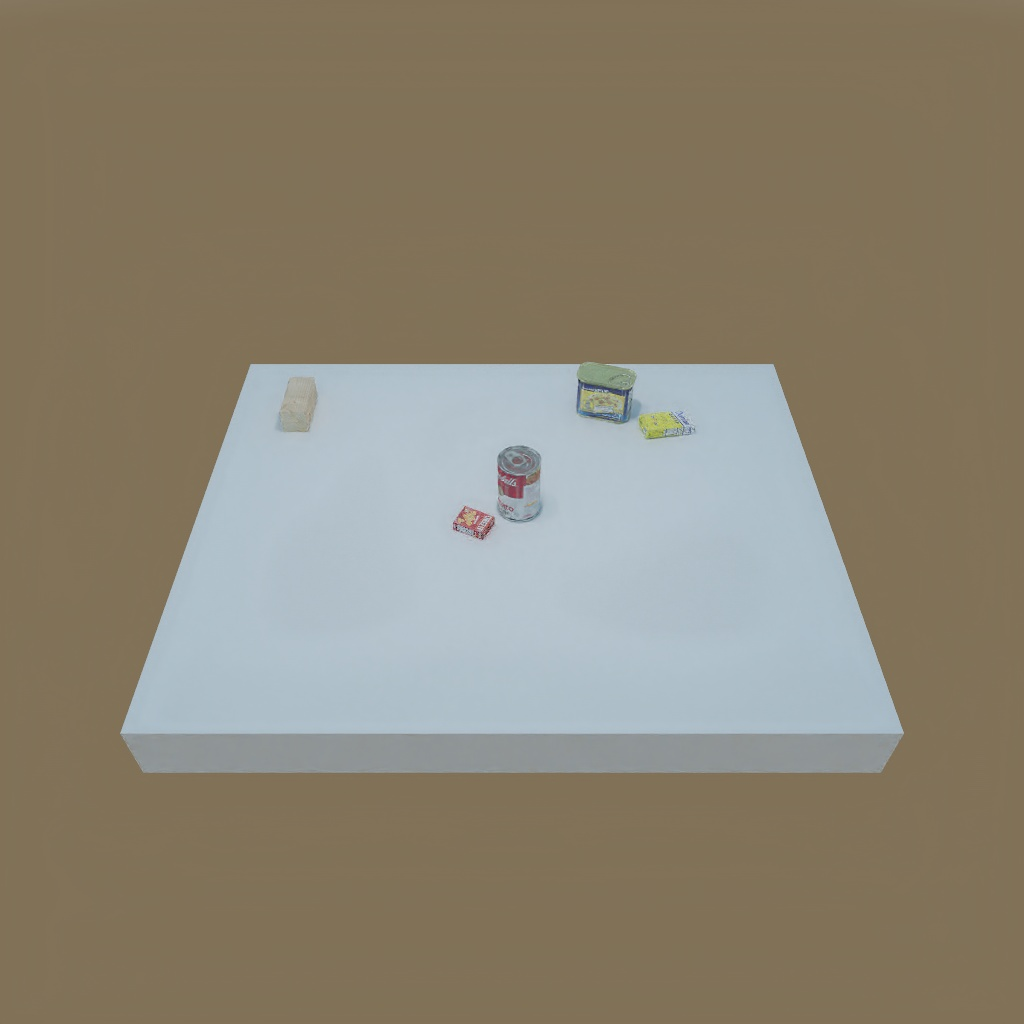potted_meat_can: (572, 363, 635, 426)
tomato_soup_can: (492, 446, 548, 527)
wood_block: (280, 374, 319, 435)
